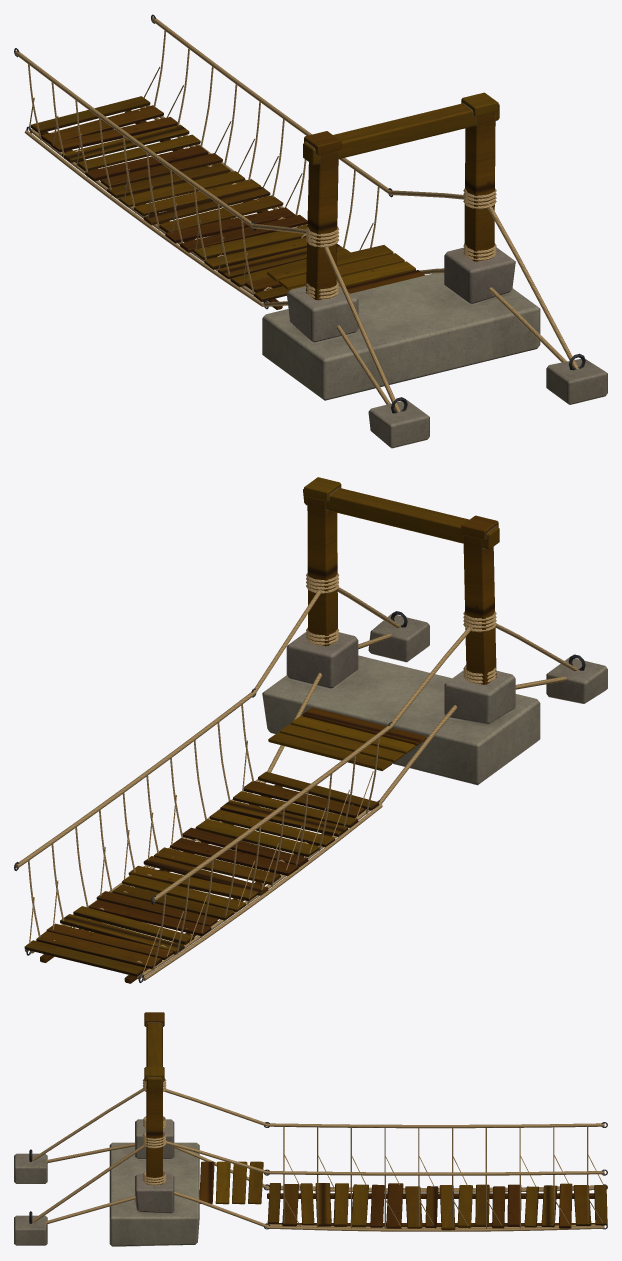
File: PonteTibetano.fbx
The picture shows the model from 3 angles, top to bottom: view 1: azimuth 30°, elevation 25°; view 2: azimuth 150°, elevation 25°; view 3: azimuth 270°, elevation 25°; orthographic projection. The views are drawn at different scales.
Parts seen in each view (by area): view 1: Ponte_Testa_Pietra, Ponte_Tratto_Assi, Ponte_Testa_Legno, Ponte_Tratto_Corde, Ponte_Testa_Corde; view 2: Ponte_Tratto_Assi, Ponte_Testa_Pietra, Ponte_Testa_Legno, Ponte_Tratto_Corde, Ponte_Testa_Corde; view 3: Ponte_Tratto_Assi, Ponte_Testa_Pietra, Ponte_Tratto_Corde, Ponte_Testa_Legno, Ponte_Testa_Corde.
Part boxes in pixels (x1=…): Ponte_Testa_Pietra: x1=262, y1=247, x2=607, y2=448; Ponte_Tratto_Assi: x1=30, y1=96, x2=350, y2=309; Ponte_Testa_Legno: x1=267, y1=92, x2=499, y2=300; Ponte_Tratto_Corde: x1=15, y1=17, x2=390, y2=306; Ponte_Testa_Corde: x1=252, y1=188, x2=578, y2=411; Ponte_Tratto_Assi: x1=24, y1=771, x2=379, y2=983; Ponte_Testa_Pietra: x1=262, y1=614, x2=607, y2=785; Ponte_Testa_Legno: x1=268, y1=477, x2=499, y2=770; Ponte_Tratto_Corde: x1=15, y1=691, x2=392, y2=980; Ponte_Testa_Corde: x1=254, y1=572, x2=578, y2=804; Ponte_Tratto_Assi: x1=267, y1=1183, x2=607, y2=1230; Ponte_Testa_Pietra: x1=14, y1=1119, x2=199, y2=1246; Ponte_Tratto_Corde: x1=267, y1=1123, x2=604, y2=1231; Ponte_Testa_Legno: x1=144, y1=1012, x2=263, y2=1204; Ponte_Testa_Corde: x1=32, y1=1078, x2=267, y2=1227.
Bounding box in the file's own units: 320 × 334 × 1056.
